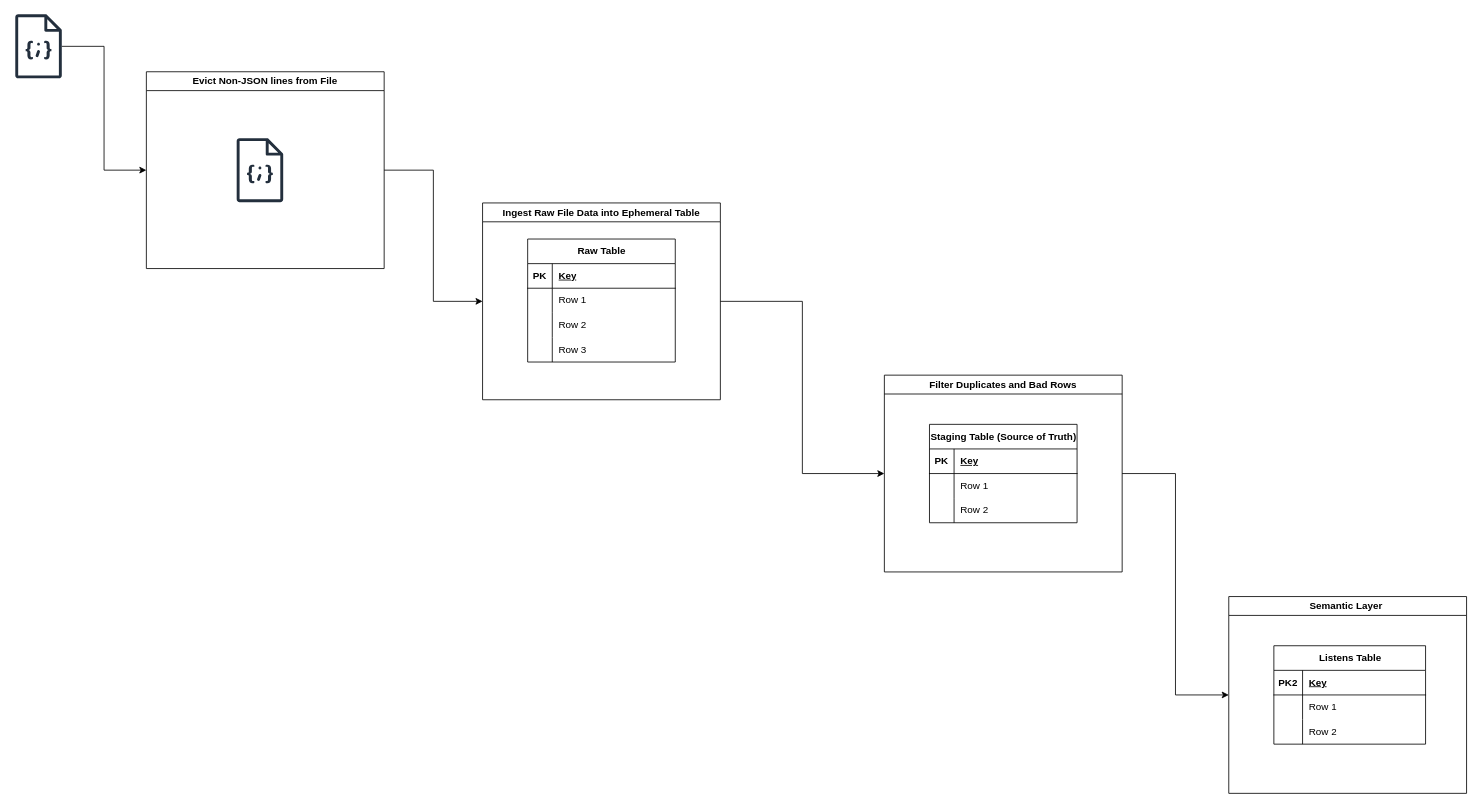
This 1481x808 diagram has some shape labels left out. Each missing label, with the centre of its shape:
"Cleaned JSON" belongs at pixel 259 170.
"Raw JSON" belongs at pixel 38 46.
